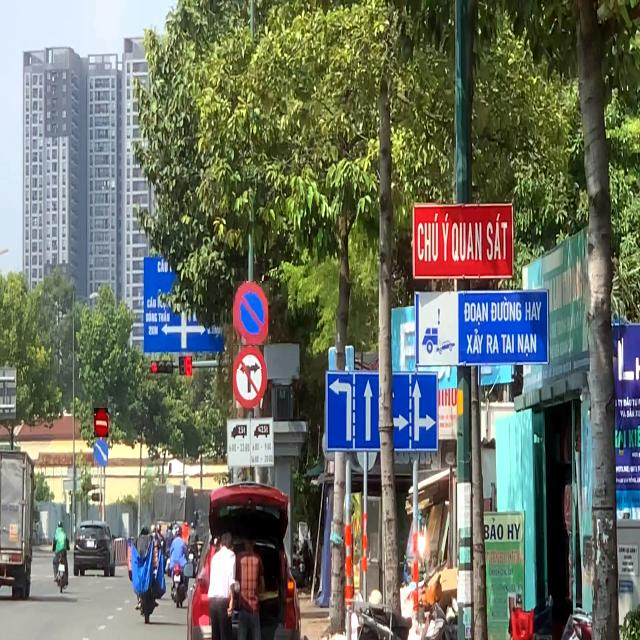21: (233, 281, 270, 345)
22: (233, 346, 267, 408)
27: (94, 438, 108, 466)
bien_chi_dan: (95, 408, 108, 437)
